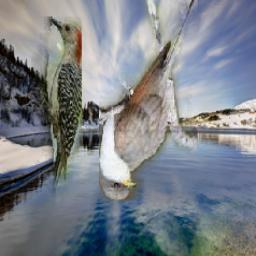Cuckoo: (99, 0, 198, 202)
Woodpecker: (32, 18, 83, 198)
